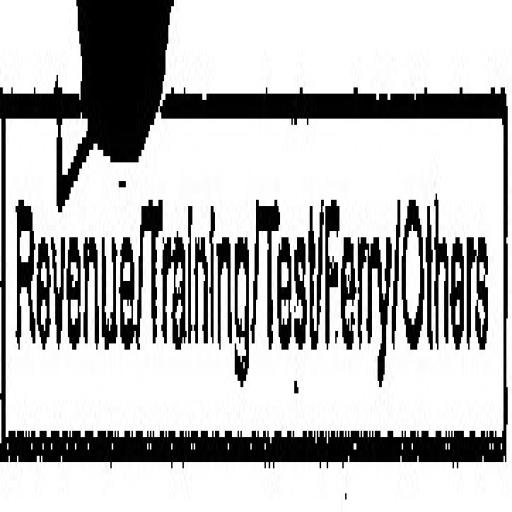check: (0, 0, 142, 464)
